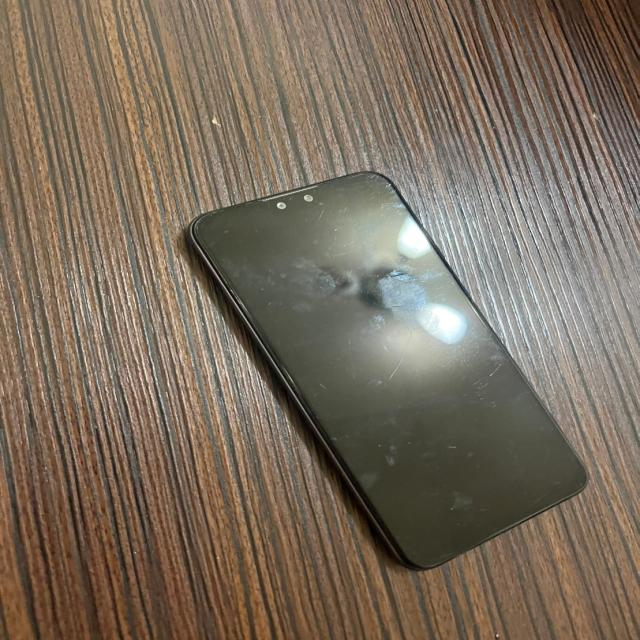Smartphone: (151, 148, 621, 602)
